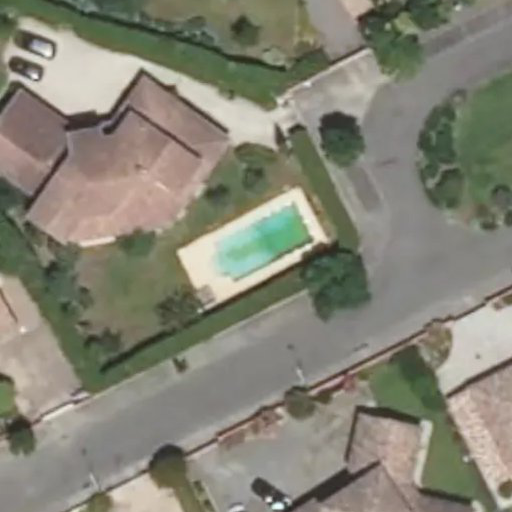pool: (202, 201, 315, 280)
